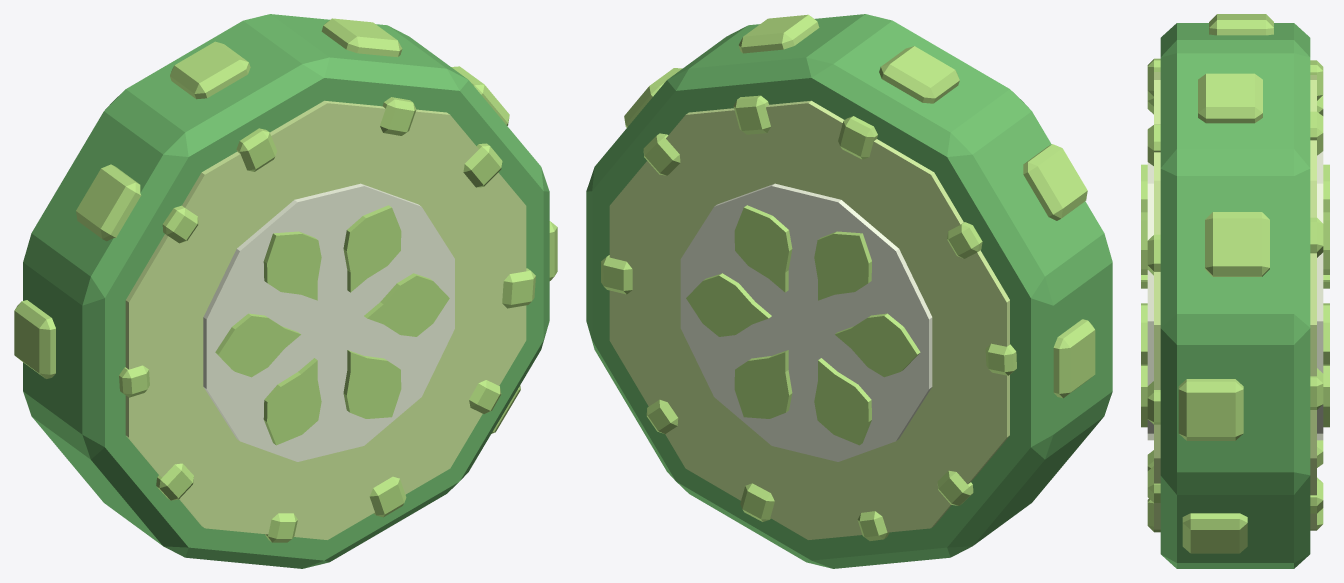
File: ToylandToySlice.fbx
The picture shows the model from 3 angles, left to right: view 1: azimuth 30°, elevation 25°; view 2: azimuth 150°, elevation 25°; view 3: azimuth 270°, elevation 25°; orthographic projection.
Visible parts, largest first — view 1: ToylandToySlice.Rim, ToylandToySlice.Face, ToylandToySlice.Lime, ToylandToySlice.PaleCentre; view 2: ToylandToySlice.Rim, ToylandToySlice.Face, ToylandToySlice.Lime, ToylandToySlice.PaleCentre; view 3: ToylandToySlice.Rim, ToylandToySlice.Lime, ToylandToySlice.Face, ToylandToySlice.PaleCentre.
Boxes of the visible parts, box(x1,y1,x2,y2) form: ToylandToySlice.Rim: box(23, 14, 549, 568); ToylandToySlice.Face: box(125, 100, 526, 539); ToylandToySlice.Lime: box(14, 18, 557, 542); ToylandToySlice.PaleCentre: box(203, 183, 454, 461); ToylandToySlice.Rim: box(586, 14, 1112, 568); ToylandToySlice.Face: box(609, 100, 1009, 539); ToylandToySlice.Lime: box(601, 14, 1095, 540); ToylandToySlice.PaleCentre: box(680, 183, 932, 461); ToylandToySlice.Rim: box(1160, 23, 1310, 568); ToylandToySlice.Lime: box(1141, 14, 1329, 553); ToylandToySlice.Face: box(1154, 72, 1316, 529); ToylandToySlice.PaleCentre: box(1147, 151, 1323, 440).
Bounding box in the file's own units: 1.73 × 1.69 × 0.58.
